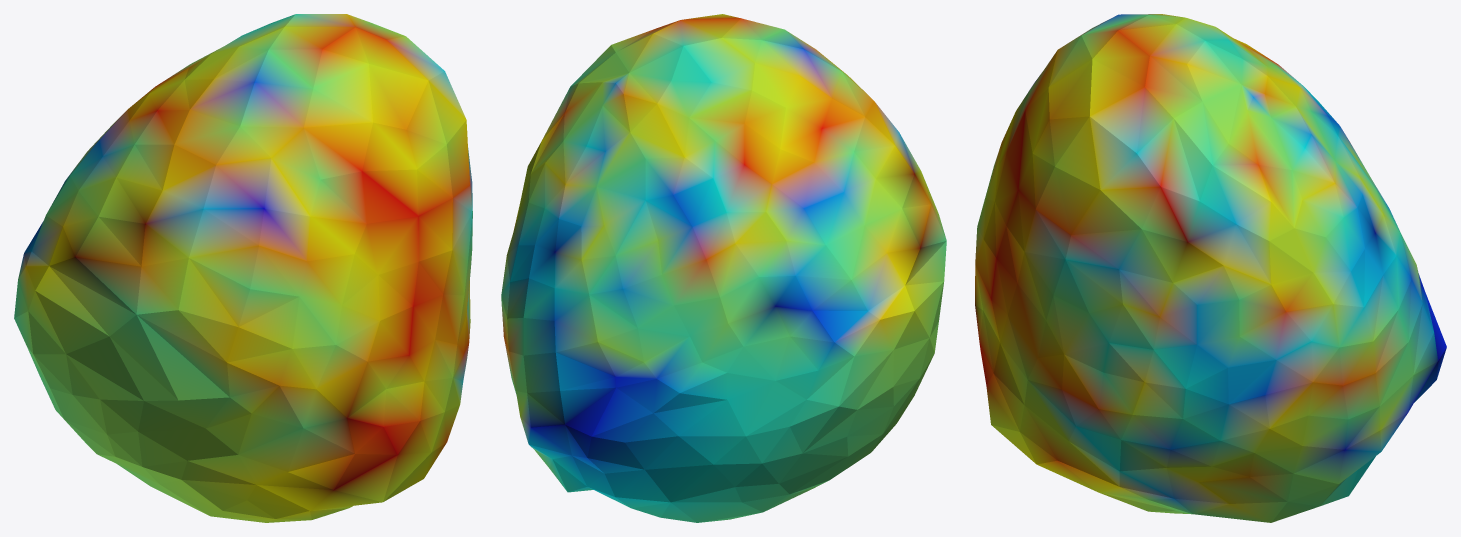
The model's file is heartwithColor100.obj.
The picture shows the model from 3 angles, left to right: view 1: azimuth 30°, elevation 25°; view 2: azimuth 150°, elevation 25°; view 3: azimuth 270°, elevation 25°; orthographic projection. The views are drawn at different scales.
Size of the model in its own units: 71.7 by 81.16 by 72.94.
